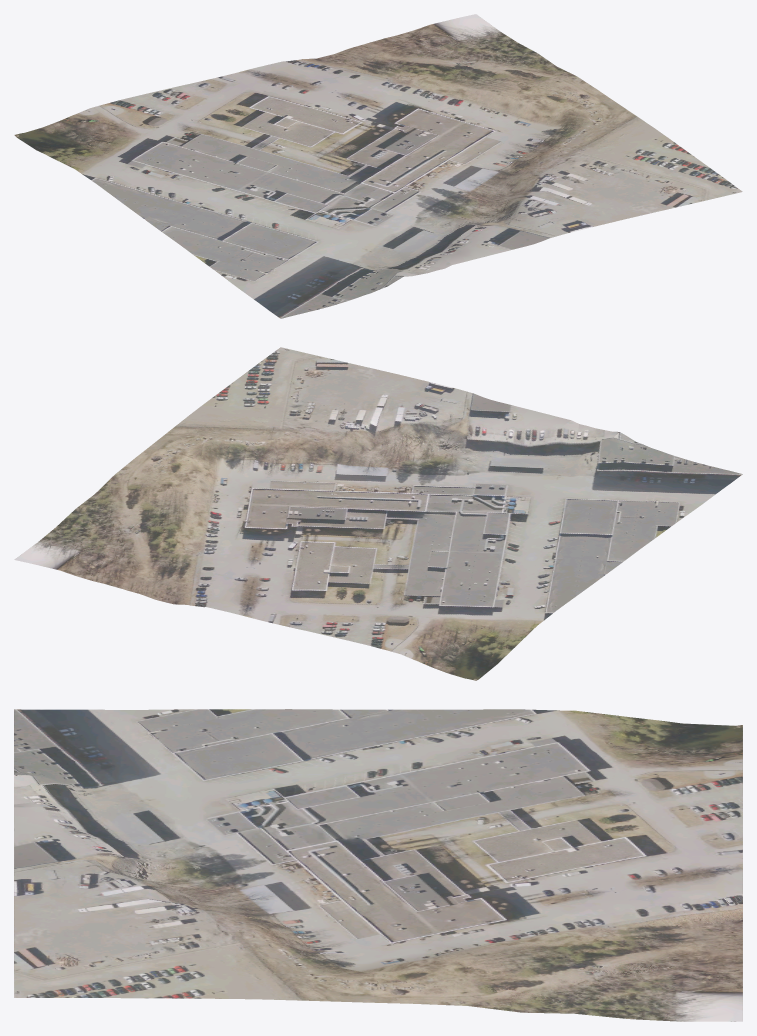
Rendered from CM_Terrain_24492302_6816312.fbx.
3 renders of one model, top to bottom at view 1: azimuth 30°, elevation 25°; view 2: azimuth 150°, elevation 25°; view 3: azimuth 270°, elevation 25°, orthographic. The views are drawn at different scales.
Parts seen in each view (by area): view 1: CM_Terrain_24492302_6816312_LOD0; view 2: CM_Terrain_24492302_6816312_LOD0; view 3: CM_Terrain_24492302_6816312_LOD0.
Part boxes in pixels (left/top/right/bottom): CM_Terrain_24492302_6816312_LOD0: left=14, top=14, right=742, bottom=318; CM_Terrain_24492302_6816312_LOD0: left=14, top=347, right=742, bottom=680; CM_Terrain_24492302_6816312_LOD0: left=14, top=709, right=742, bottom=1021.
Size of what is drawn, in the model's own units: 205 by 11.84 by 205.
